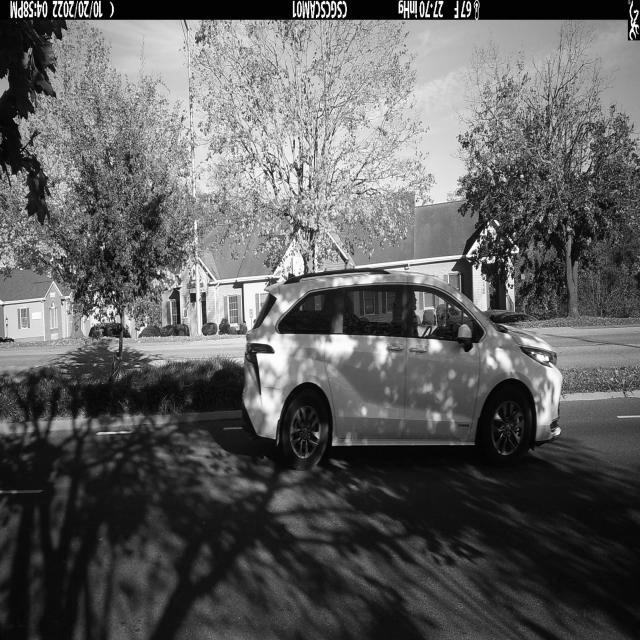Van: (241, 269, 563, 471)
